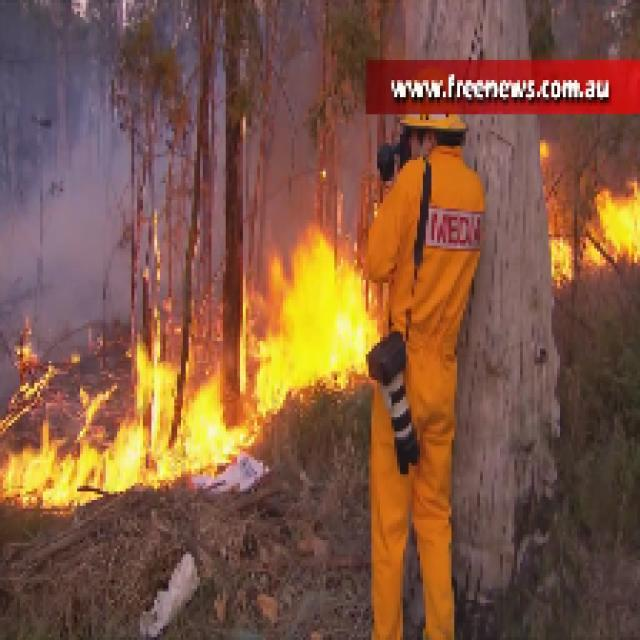Fire: (6, 360, 186, 503), (266, 237, 360, 397), (588, 188, 634, 258)
Smoke: (26, 152, 120, 312)
